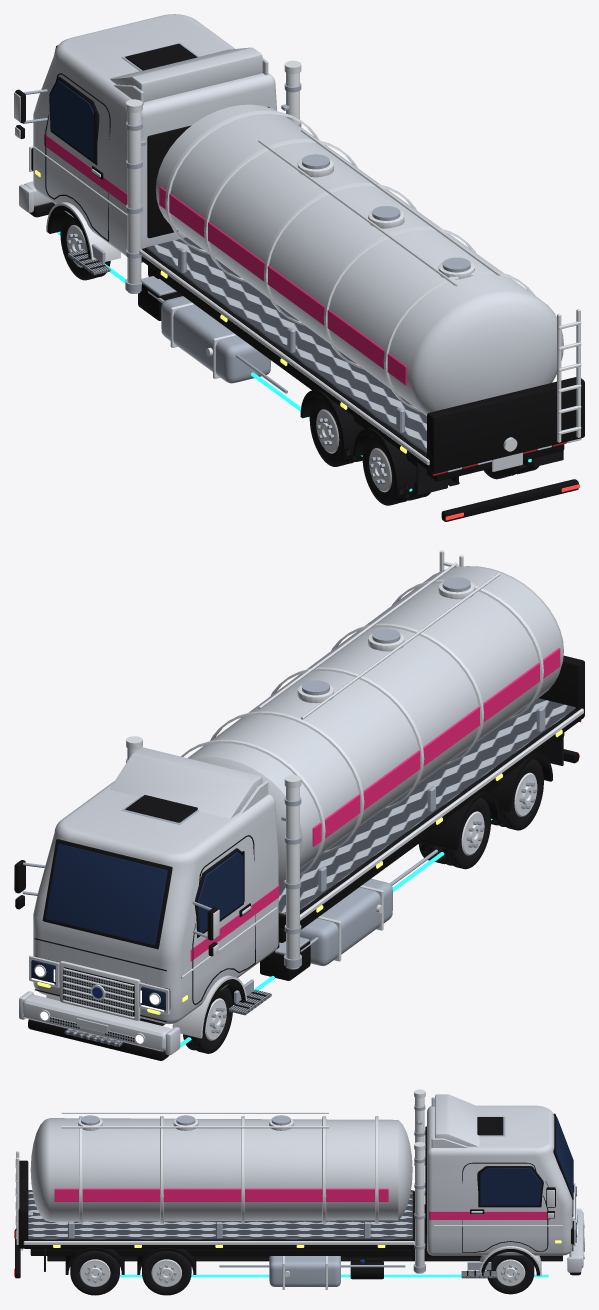
File: dekotora_truck_tank.glb
3 views of the same model, one above another, from view 1: azimuth 30°, elevation 25°; view 2: azimuth 150°, elevation 25°; view 3: azimuth 270°, elevation 25° (orthographic). The views are drawn at different scales.
Visible parts, largest first — view 1: truck_paint_white, truck_plastic_black, truck_chrome, truck_diamond, truck_steel, truck_paint_pink, truck_glass, wheel_r_L_1.5_1.06, wheel_r_L_3.0_1.06, wheel_f_L, truck_rubber; view 2: truck_paint_white, truck_chrome, truck_plastic_black, truck_glass, truck_diamond, truck_steel, truck_paint_pink, wheel_r_L_3.0_1.06, wheel_r_L_1.5_1.06, truck_mesh_perf, wheel_f_L; view 3: truck_paint_white, truck_plastic_black, truck_chrome, truck_diamond, truck_paint_pink, truck_steel, truck_glass, wheel_r_R_3.0_1.06, wheel_r_R_1.5_1.06, wheel_f_R, truck_lamp_cyan.
Part boxes in pixels (left/top/right/bottom): truck_paint_white: left=19, top=14, right=581, bottom=472; truck_plastic_black: left=15, top=43, right=584, bottom=521; truck_chrome: left=14, top=60, right=581, bottom=465; truck_diamond: left=67, top=237, right=426, bottom=453; truck_steel: left=23, top=43, right=470, bottom=432; truck_paint_pink: left=44, top=133, right=407, bottom=385; truck_glass: left=49, top=80, right=95, bottom=162; wheel_r_L_1.5_1.06: left=362, top=434, right=414, bottom=505; wheel_r_L_3.0_1.06: left=309, top=395, right=358, bottom=466; wheel_f_L: left=60, top=213, right=110, bottom=280; truck_rubber: left=416, top=450, right=563, bottom=495; truck_paint_white: left=19, top=566, right=563, bottom=1055; truck_chrome: left=14, top=550, right=583, bottom=1044; truck_plastic_black: left=15, top=655, right=584, bottom=1060; truck_glass: left=31, top=844, right=243, bottom=1011; truck_diamond: left=64, top=698, right=575, bottom=1046; truck_steel: left=22, top=577, right=545, bottom=1003; truck_paint_pink: left=190, top=648, right=560, bottom=961; wheel_r_L_3.0_1.06: left=439, top=798, right=490, bottom=869; wheel_r_L_1.5_1.06: left=495, top=759, right=543, bottom=830; truck_mesh_perf: left=64, top=970, right=132, bottom=1016; wheel_f_L: left=183, top=987, right=232, bottom=1053; truck_paint_white: left=21, top=1094, right=584, bottom=1272; truck_plastic_black: left=15, top=1113, right=581, bottom=1279; truck_chrome: left=15, top=1089, right=584, bottom=1289; truck_diamond: left=28, top=1190, right=584, bottom=1278; truck_paint_pink: left=54, top=1188, right=550, bottom=1219; truck_steel: left=28, top=1104, right=550, bottom=1286; truck_glass: left=480, top=1116, right=576, bottom=1242; wheel_r_R_3.0_1.06: left=142, top=1250, right=191, bottom=1295; wheel_r_R_1.5_1.06: left=70, top=1250, right=119, bottom=1295; wheel_f_R: left=486, top=1255, right=534, bottom=1294; truck_lamp_cyan: left=119, top=1274, right=548, bottom=1277.
Size of the model in its own units: 3.28 by 3.65 by 11.96.
16 materials, 3 textured.
